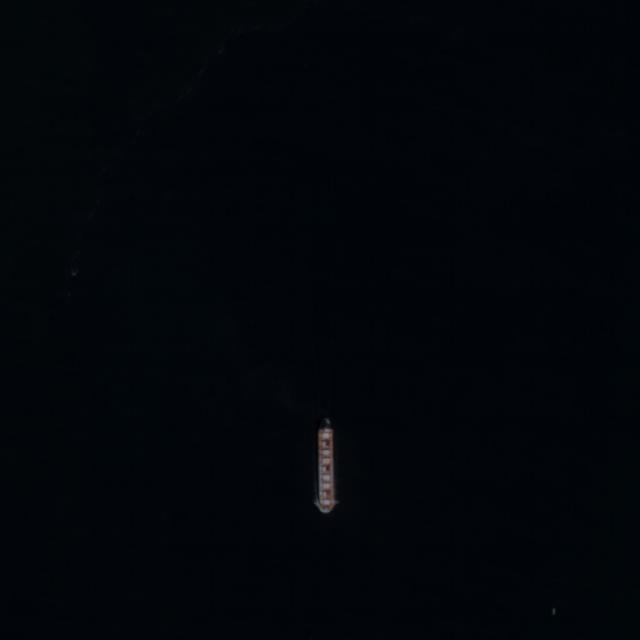Container Ship: (317, 417, 336, 514)
